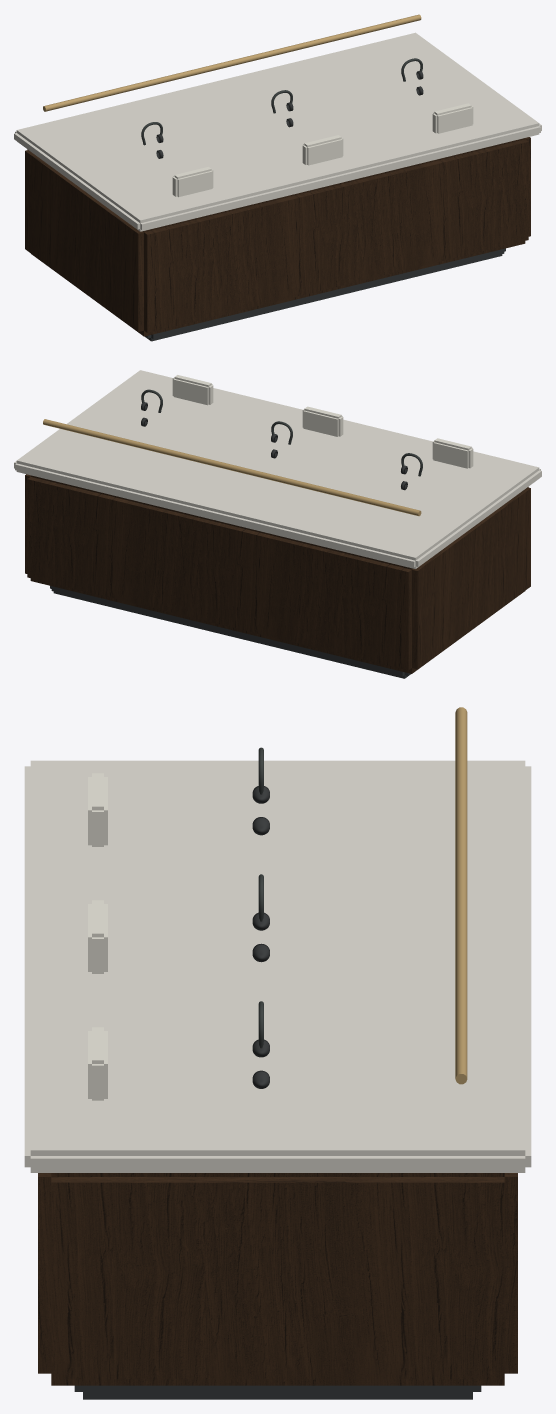
File: audio_listening_v293.glb
3 views of the same model, one above another, from view 1: azimuth 30°, elevation 25°; view 2: azimuth 150°, elevation 25°; view 3: azimuth 270°, elevation 25° (orthographic). The views are drawn at different scales.
Visible parts, largest first — view 1: audio_listening_v293_CC0_Smoked_walnut, audio_listening_v293_Honed_solid_surface, audio_listening_v293_Paper_page_edges, audio_listening_v293_Anodised_graphite, audio_listening_v293_Satin_champagne; view 2: audio_listening_v293_CC0_Smoked_walnut, audio_listening_v293_Honed_solid_surface, audio_listening_v293_Paper_page_edges, audio_listening_v293_Anodised_graphite, audio_listening_v293_Satin_champagne; view 3: audio_listening_v293_Honed_solid_surface, audio_listening_v293_CC0_Smoked_walnut, audio_listening_v293_Anodised_graphite, audio_listening_v293_Satin_champagne, audio_listening_v293_Paper_page_edges.
Part boxes in pixels (bbox=[...]): audio_listening_v293_CC0_Smoked_walnut: bbox=[25, 137, 530, 336]; audio_listening_v293_Honed_solid_surface: bbox=[14, 32, 541, 231]; audio_listening_v293_Paper_page_edges: bbox=[172, 103, 473, 197]; audio_listening_v293_Anodised_graphite: bbox=[145, 248, 505, 341]; audio_listening_v293_Satin_champagne: bbox=[43, 14, 421, 111]; audio_listening_v293_CC0_Smoked_walnut: bbox=[25, 474, 530, 673]; audio_listening_v293_Honed_solid_surface: bbox=[14, 370, 541, 568]; audio_listening_v293_Paper_page_edges: bbox=[172, 375, 473, 468]; audio_listening_v293_Anodised_graphite: bbox=[50, 586, 410, 678]; audio_listening_v293_Satin_champagne: bbox=[43, 419, 421, 516]; audio_listening_v293_Honed_solid_surface: bbox=[24, 760, 531, 1172]; audio_listening_v293_CC0_Smoked_walnut: bbox=[38, 1173, 517, 1385]; audio_listening_v293_Anodised_graphite: bbox=[74, 1385, 481, 1399]; audio_listening_v293_Satin_champagne: bbox=[455, 707, 467, 1084]; audio_listening_v293_Paper_page_edges: bbox=[88, 773, 107, 1100].
Bounding box in the file's own units: 2.8 × 1.16 × 1.52.
11 materials, 1 textured.
